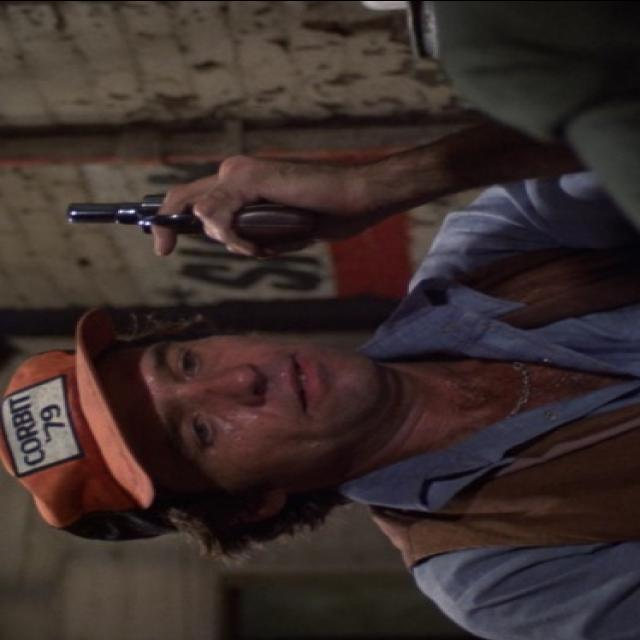weapons: (42, 162, 358, 262)
